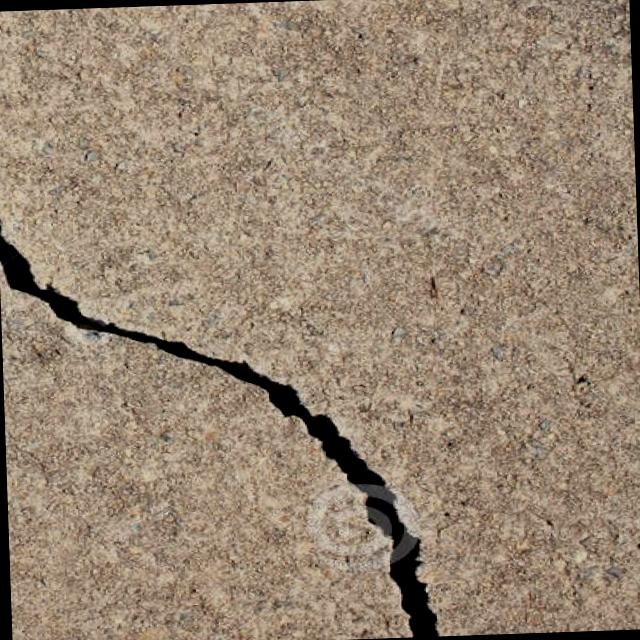crack: (0, 201, 442, 640)
